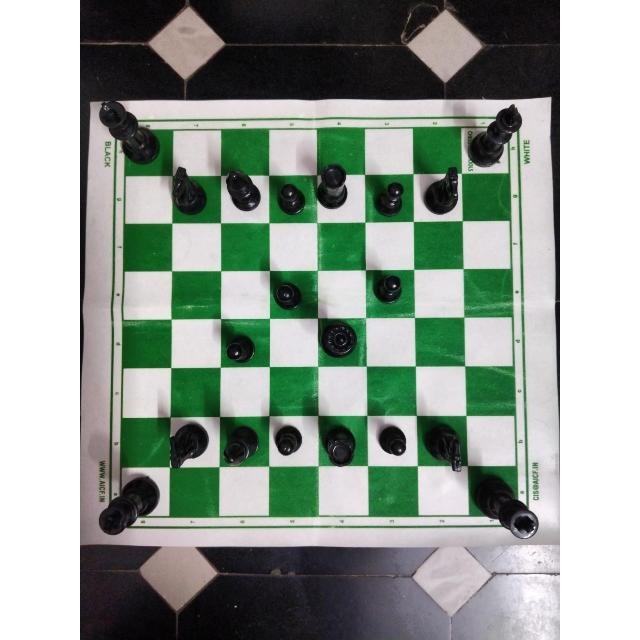black-bishop: (220, 159, 264, 216), (218, 419, 264, 471)
black-king: (473, 469, 541, 544), (90, 474, 166, 539), (465, 101, 525, 173), (96, 100, 160, 166)
black-knight: (421, 417, 467, 477), (165, 417, 213, 471), (169, 165, 213, 219), (422, 163, 464, 219)
black-pawn: (372, 416, 412, 466), (270, 178, 314, 223), (367, 177, 410, 221), (368, 269, 407, 313), (269, 417, 305, 464), (222, 327, 259, 366), (269, 275, 303, 310)
black-queen: (320, 319, 360, 361)
black-rook: (315, 159, 353, 215), (320, 423, 362, 473)
